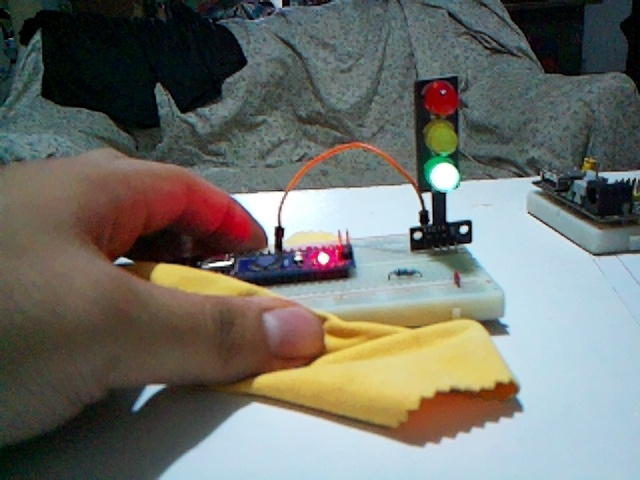traffic_light_green: (414, 75, 461, 191)
